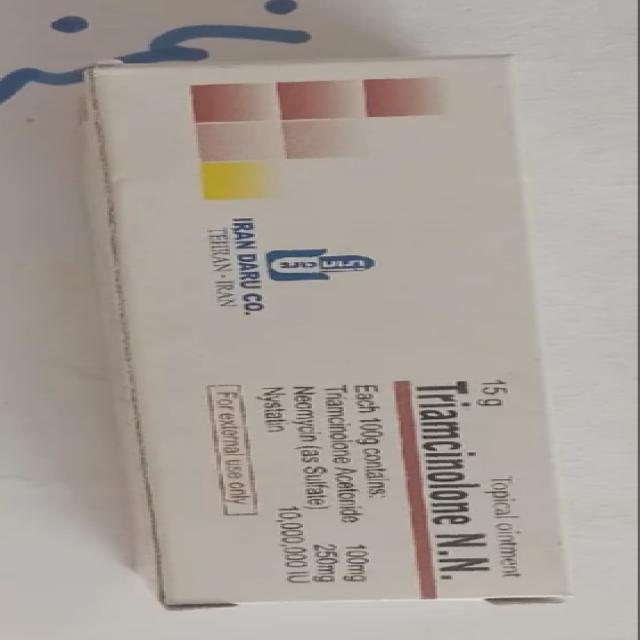drug-name: (399, 370, 486, 537)
